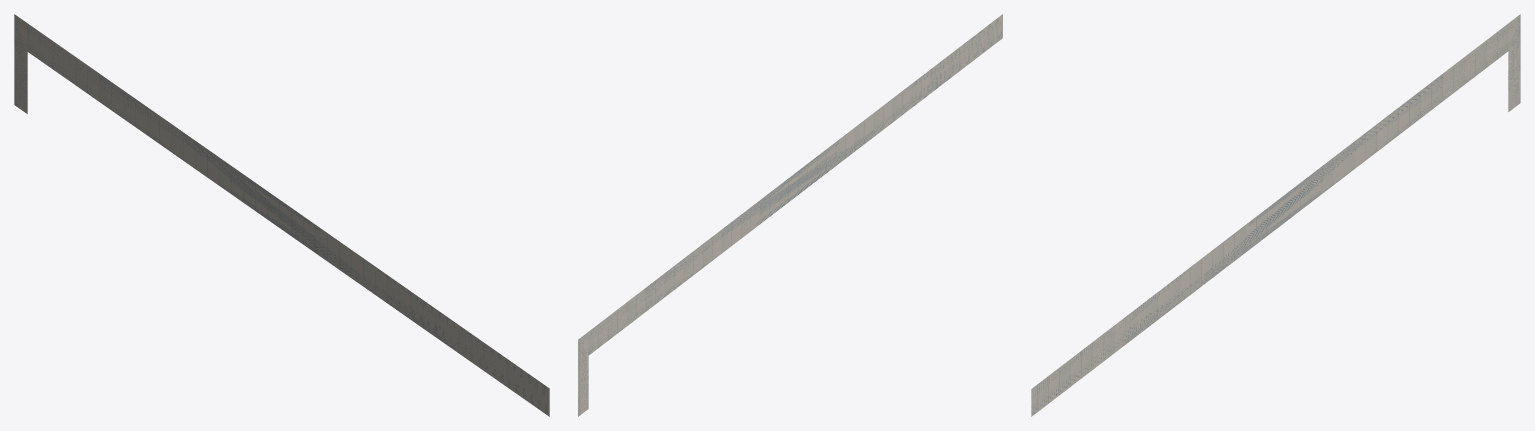
File: 水立方46.dae
3 renders of one model, left to right at view 1: azimuth 30°, elevation 25°; view 2: azimuth 150°, elevation 25°; view 3: azimuth 330°, elevation 25°, orthographic. The views are drawn at different scales.
Parts seen in each view (by area): view 1: SketchUp; view 2: SketchUp; view 3: SketchUp.
Boxes of the visible parts, x1,y1,x2,y2 form: SketchUp: (14, 14, 549, 416); SketchUp: (578, 14, 1002, 416); SketchUp: (1031, 14, 1520, 416).
Bounding box in the file's own units: 50.11 × 2524 × 245.
